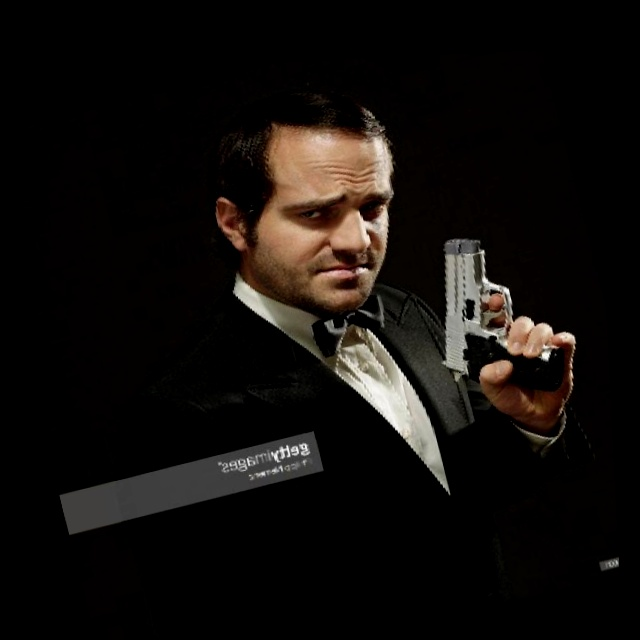gun: (411, 214, 574, 413)
